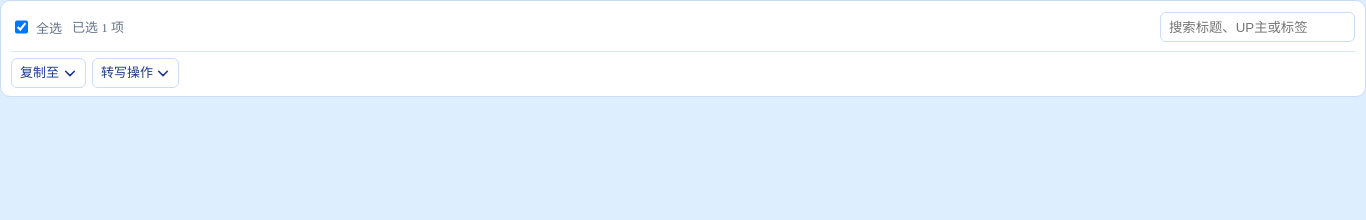
it: FavoriteLibraryMultiSelectColumnMenu › always exposes the same three video-summary menu items in order
This screenshot has width=1366, height=220.
Click the button "转写操作".
click(136, 73)  # box x1=92 y1=58 x2=179 y2=88
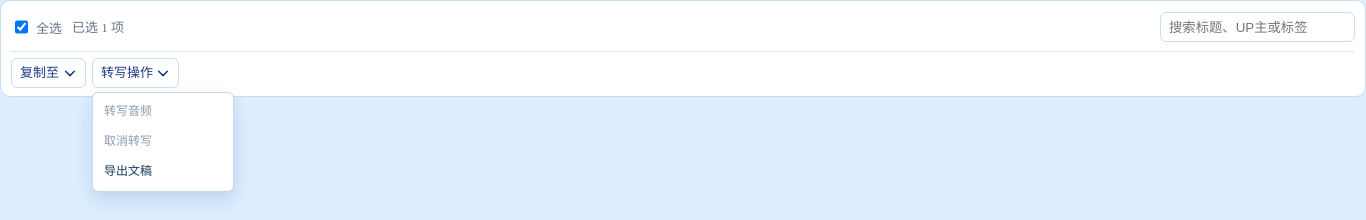
Check: the menu items read "转写音频", "取消转写", "导出文稿", in this order, box x1=97 y1=97 x2=229 y2=127; x1=97 y1=127 x2=229 y2=157; x1=97 y1=157 x2=229 y2=187
Check: the menu item "转写音频" is disabled, box x1=97 y1=97 x2=229 y2=127
Check: the menu item "取消转写" is disabled, box x1=97 y1=127 x2=229 y2=157
